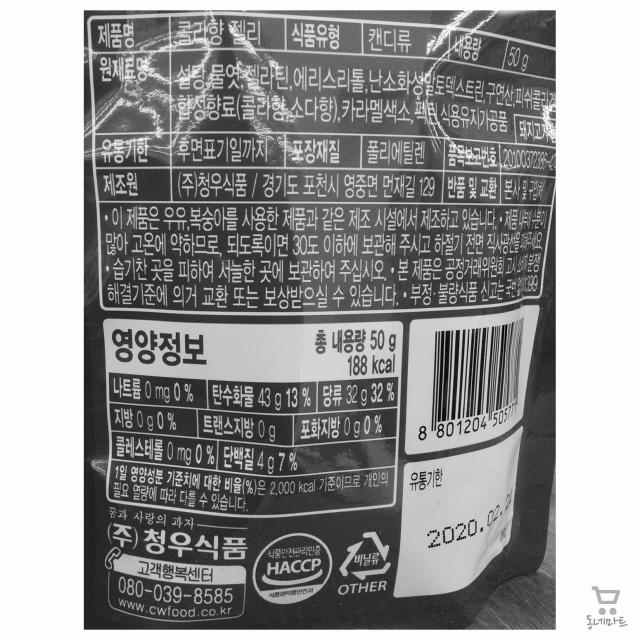Nutrition Label: (94, 313, 410, 522)
